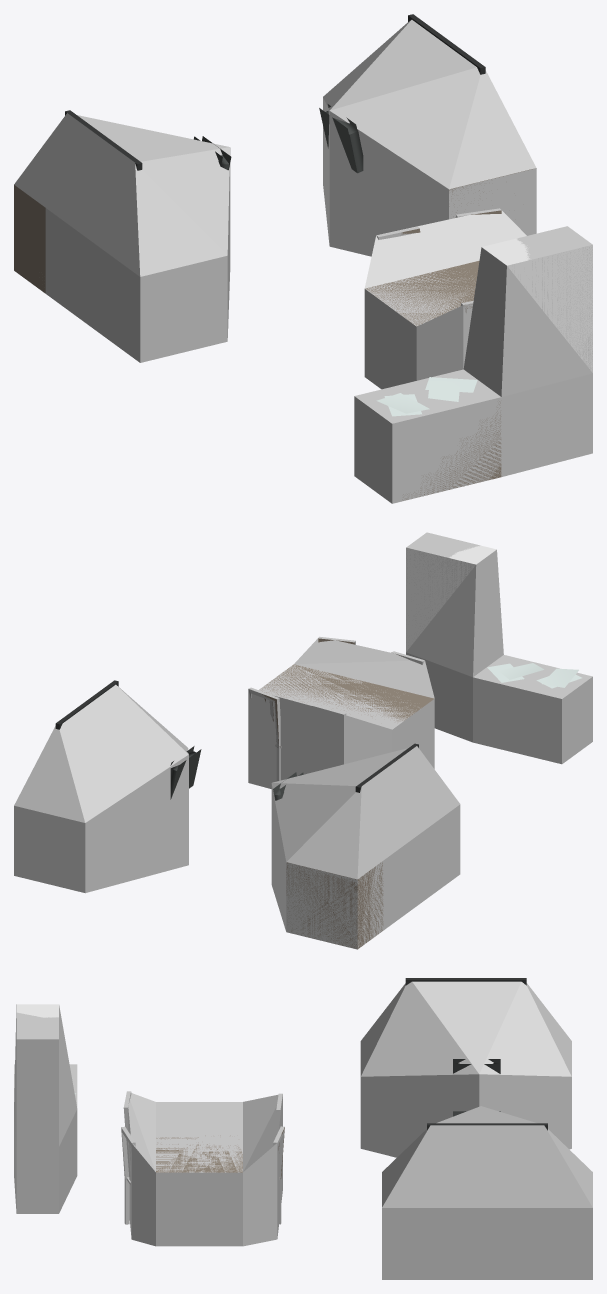
Rendered from si_res_interior_desks_dining.dae.
The picture shows the model from 3 angles, top to bottom: view 1: azimuth 30°, elevation 25°; view 2: azimuth 150°, elevation 25°; view 3: azimuth 270°, elevation 25°; orthographic projection. The views are drawn at different scales.
Parts seen in each view (by area): view 1: Colmesh-1, si_res_interior_desks_dining_a800, si_res_interior_desks_dining_a220; view 2: Colmesh-1, si_res_interior_desks_dining_a800, si_res_interior_desks_dining_a220; view 3: Colmesh-1, si_res_interior_desks_dining_a800, si_res_interior_desks_dining_a220.
Part boxes in pixels (left/top/right/bottom): Colmesh-1: left=14, top=20, right=592, bottom=503; si_res_interior_desks_dining_a800: left=65, top=14, right=592, bottom=503; si_res_interior_desks_dining_a220: left=14, top=15, right=532, bottom=500; Colmesh-1: left=14, top=532, right=592, bottom=948; si_res_interior_desks_dining_a800: left=55, top=545, right=581, bottom=949; si_res_interior_desks_dining_a220: left=59, top=548, right=475, bottom=949; Colmesh-1: left=14, top=981, right=592, bottom=1279; si_res_interior_desks_dining_a800: left=16, top=978, right=547, bottom=1224; si_res_interior_desks_dining_a220: left=156, top=1059, right=500, bottom=1178.
Bounding box in the file's own units: 3.74 × 5.48 × 1.82.
